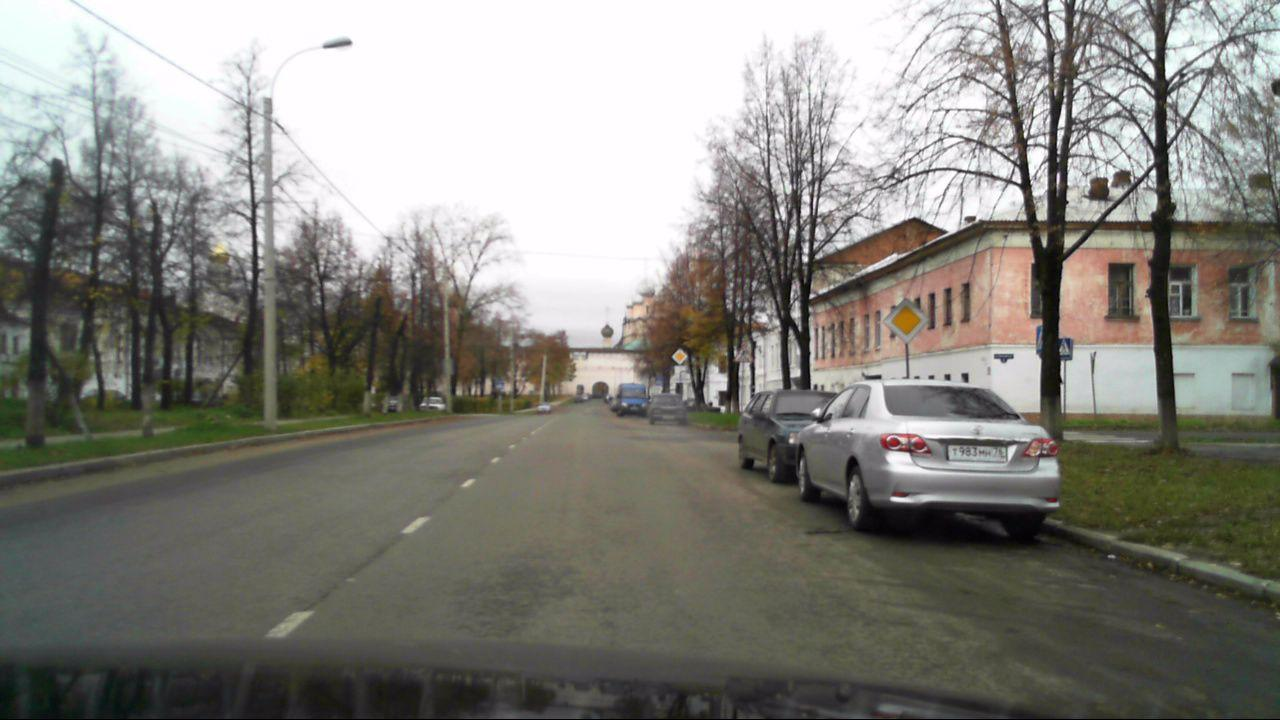road_sign: (881, 297, 931, 344), (671, 347, 689, 366), (1057, 339, 1072, 360)
